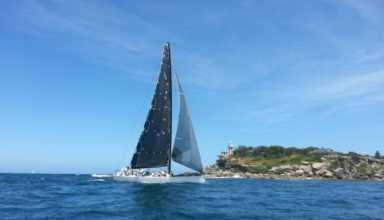fanchuan: (115, 38, 207, 185)
